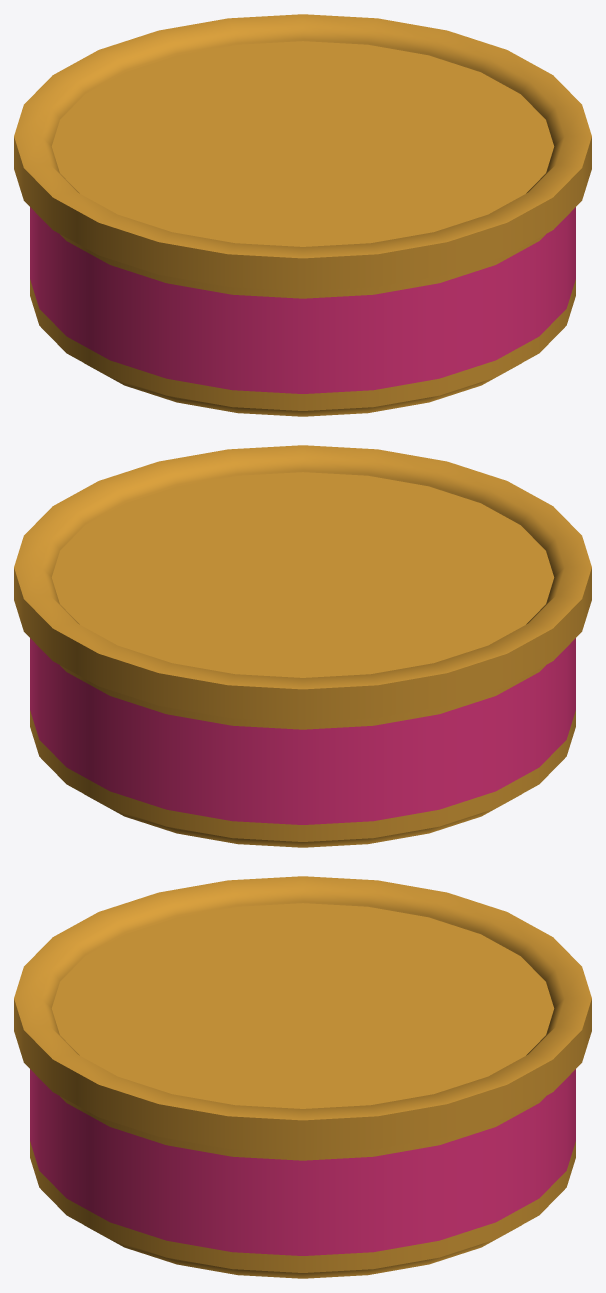
Rendered from Can.fbx.
The picture shows the model from 3 angles, top to bottom: view 1: azimuth 30°, elevation 25°; view 2: azimuth 150°, elevation 25°; view 3: azimuth 270°, elevation 25°; orthographic projection.
Parts seen in each view (by area): view 1: Can, Top; view 2: Can, Top; view 3: Can, Top.
Part boxes in pixels (x1,y1,x2,y2): Can: [14, 14, 591, 416]; Top: [51, 41, 554, 246]; Can: [14, 445, 591, 847]; Top: [51, 472, 554, 677]; Can: [14, 876, 591, 1278]; Top: [51, 903, 554, 1108].
Size of the model in its own units: 13.26 by 4.4 by 13.26.
